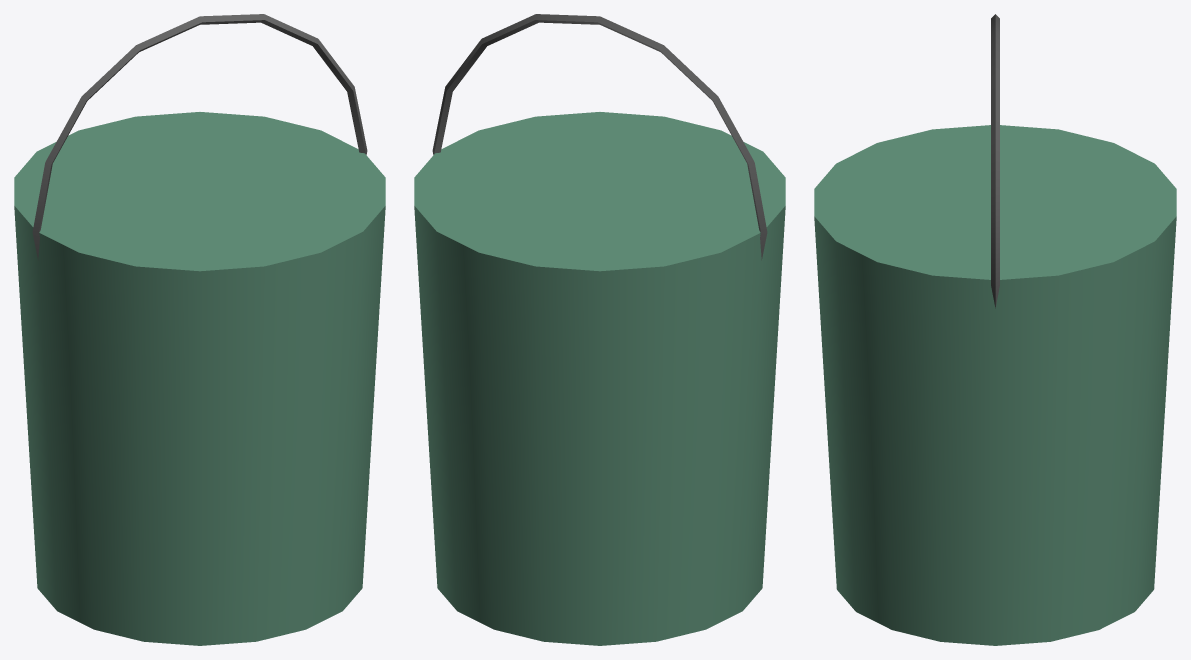
File: paint_bucket_2.glb
3 renders of one model, left to right at view 1: azimuth 30°, elevation 25°; view 2: azimuth 150°, elevation 25°; view 3: azimuth 270°, elevation 25°, orthographic. The views are drawn at different scales.
Visible parts, largest first — view 1: Bucket.001, Bucket handle.001; view 2: Bucket.001, Bucket handle.001; view 3: Bucket.001, Bucket handle.001.
Part boxes in pixels (x1=…): Bucket.001: x1=14, y1=112, x2=385, y2=645; Bucket handle.001: x1=32, y1=14, x2=367, y2=260; Bucket.001: x1=414, y1=112, x2=785, y2=645; Bucket handle.001: x1=432, y1=14, x2=767, y2=260; Bucket.001: x1=814, y1=125, x2=1176, y2=645; Bucket handle.001: x1=991, y1=14, x2=999, y2=308.
Size of the model in its own units: 0.328 by 0.524 by 0.3151.
